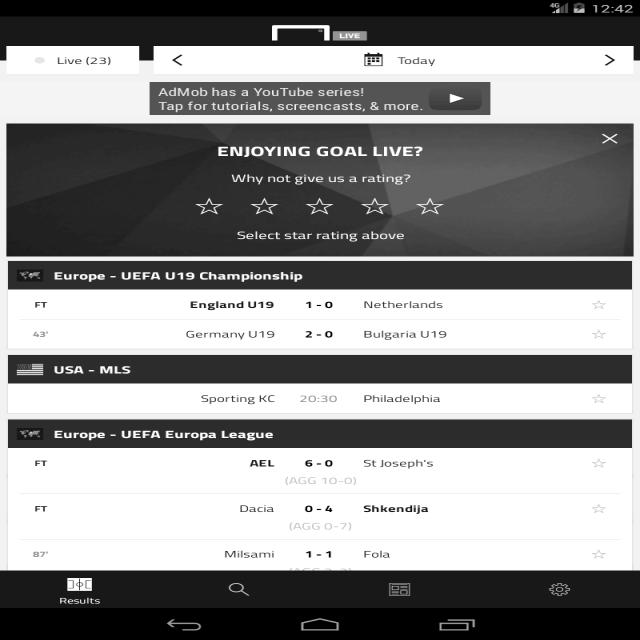Button: (419, 82, 489, 114)
ImageView: (54, 570, 102, 594), (381, 576, 421, 602), (10, 360, 48, 378)
RatingBar: (178, 194, 471, 218)
TextView: (150, 78, 410, 114), (51, 266, 311, 286), (214, 140, 428, 158), (226, 168, 417, 187), (53, 426, 274, 442), (226, 229, 432, 243), (351, 495, 448, 517), (354, 386, 443, 408), (175, 324, 278, 340), (214, 544, 281, 563), (297, 327, 340, 341)
